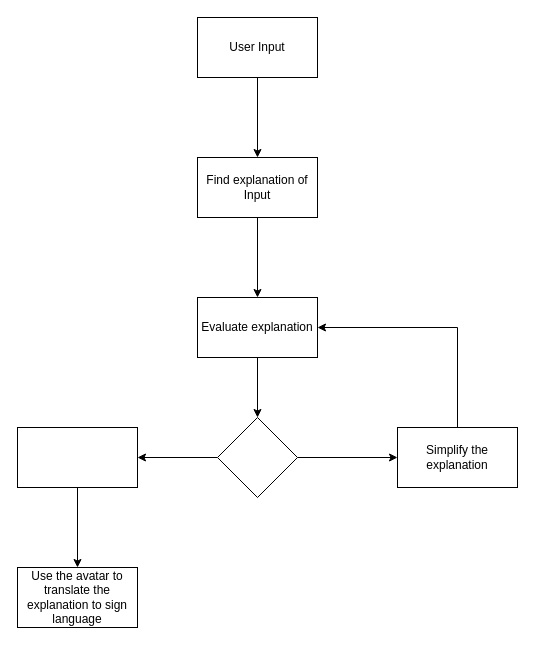
Image size: 535x645. Some labels were removed from this diagram. The shapes that lost their labels are listed below. From the top down, each one's centre as x and y in pixels, then its label:
(77,457): Present the explanation to the user
(257,457): OR
